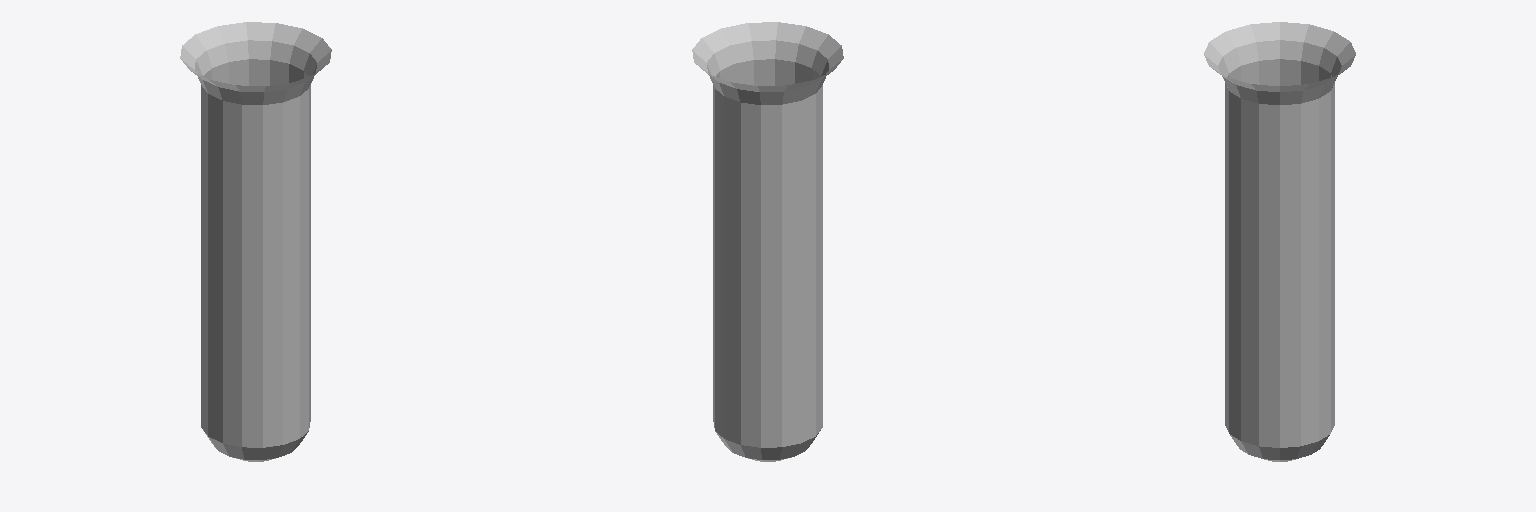
Rendered from vial.obj.
3 views of the same model, side by side, from view 1: azimuth 30°, elevation 25°; view 2: azimuth 150°, elevation 25°; view 3: azimuth 270°, elevation 25° (orthographic).
Visible parts, largest first — view 1: Cube; view 2: Cube; view 3: Cube.
Boxes of the visible parts, x1,y1,x2,y2 form: Cube: [180, 22, 331, 461]; Cube: [692, 22, 843, 461]; Cube: [1204, 22, 1355, 461].
Bounding box in the file's own units: 0.0445 × 0.1296 × 0.0445.